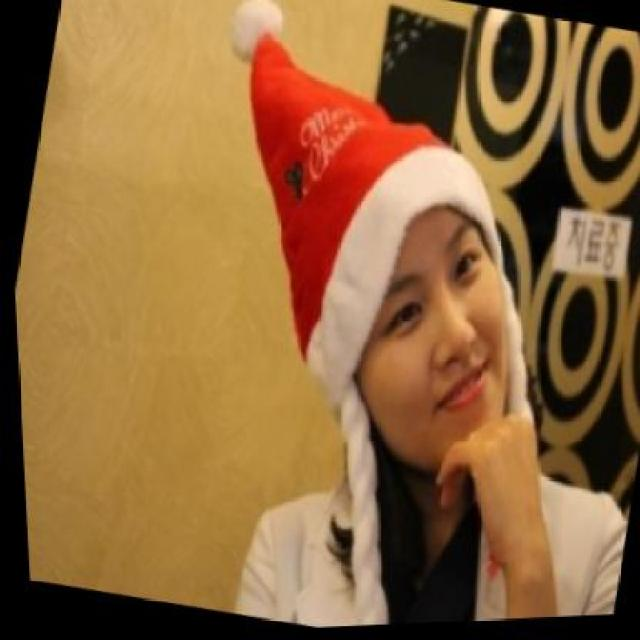hat: (229, 2, 503, 405)
